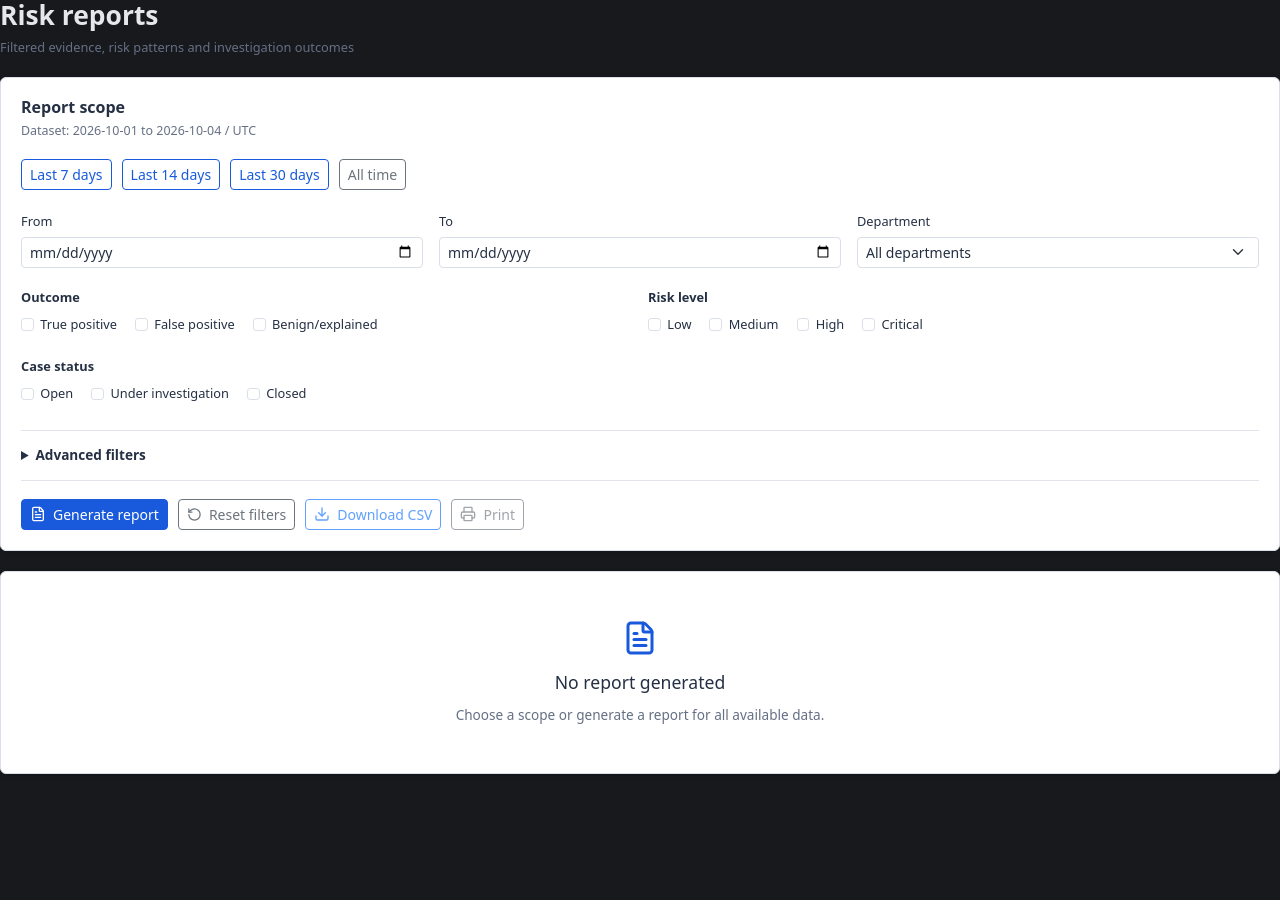
it: renders summary charts, groups, and investigation links
Click the heading "Advanced filters" at (91, 455), box [35, 445, 146, 464]
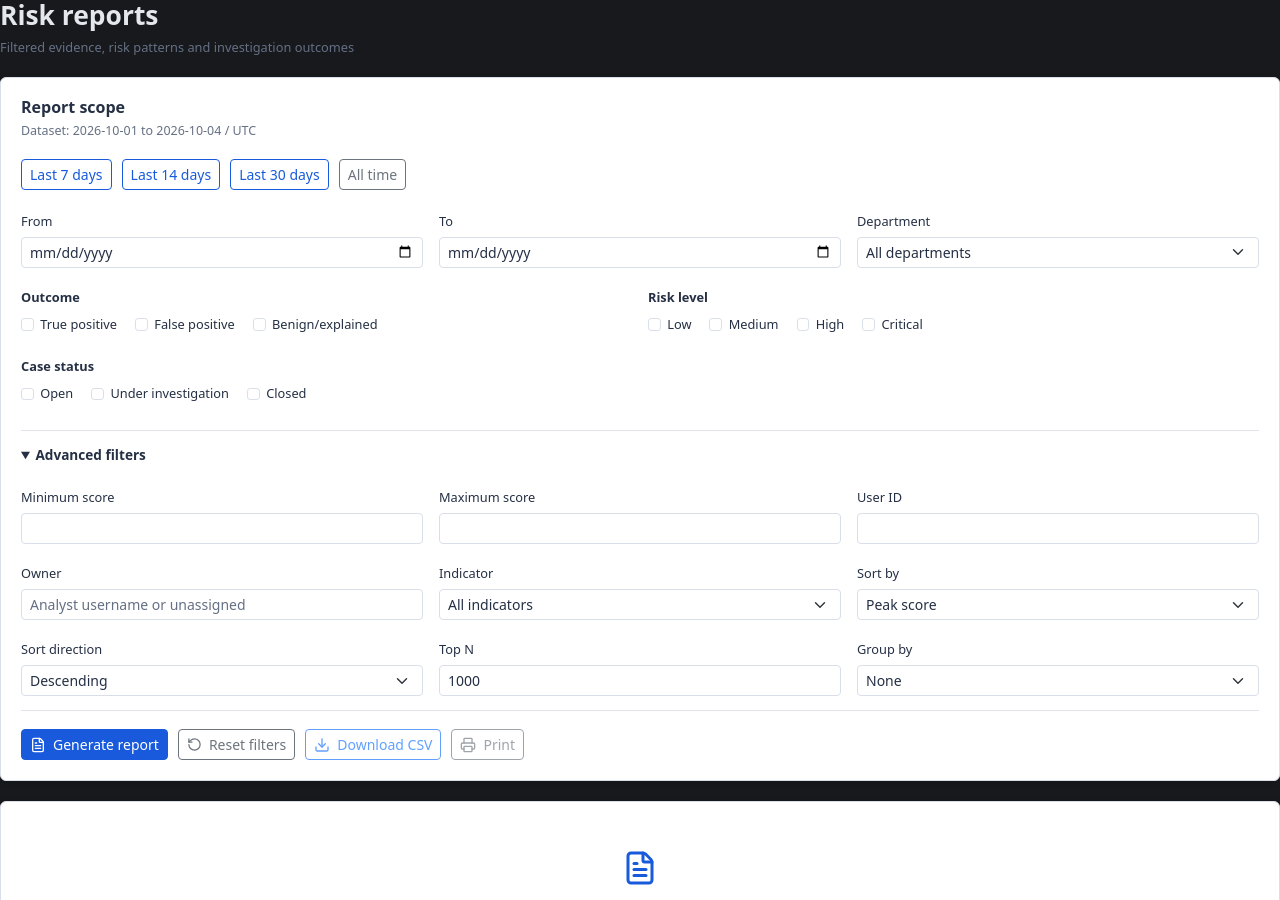
Select "Department" in the dropdown labelled "Group by" at (1058, 681), box [857, 665, 1259, 696]
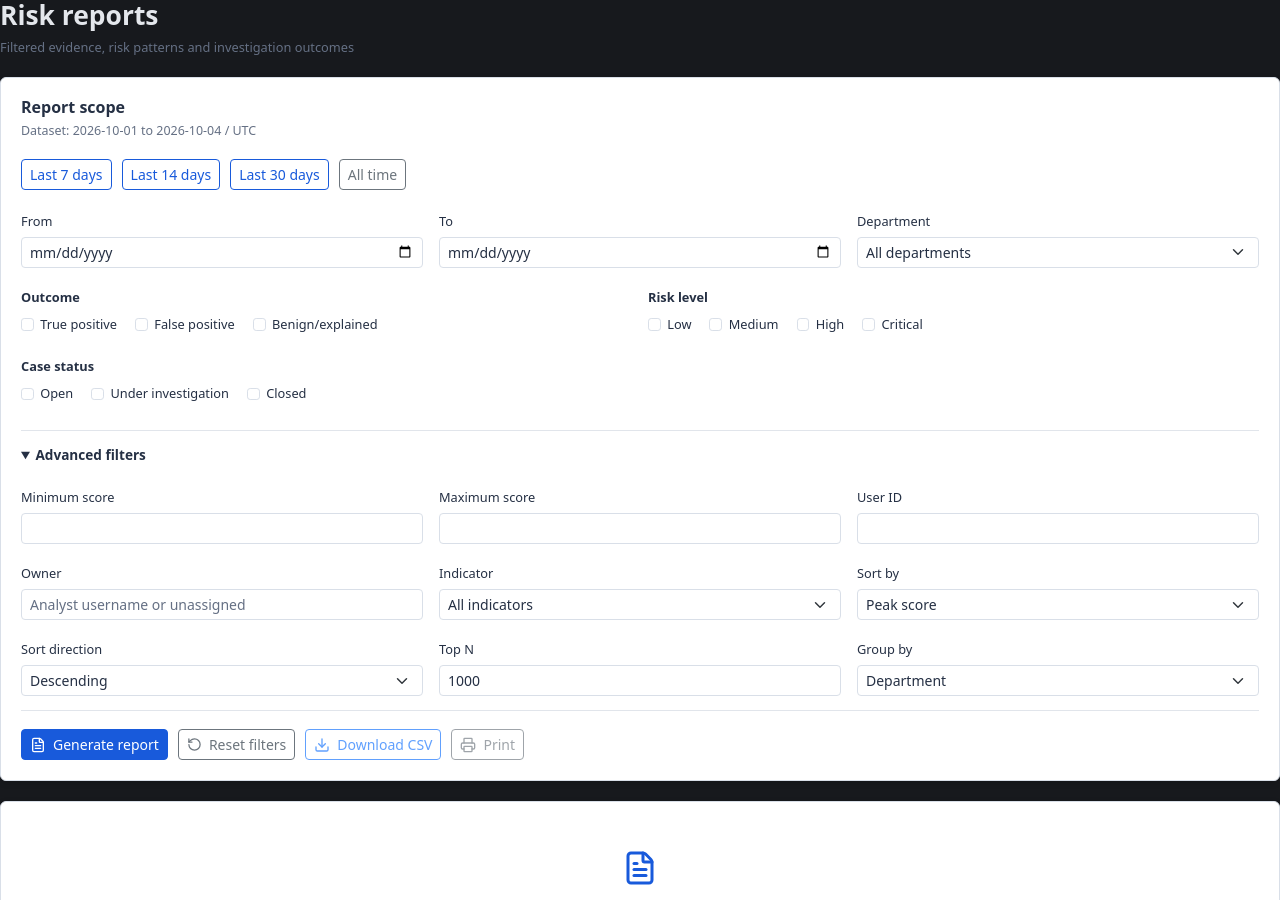
Click the button "Generate report" at (94, 745), box [21, 729, 168, 760]
(page scrolled)
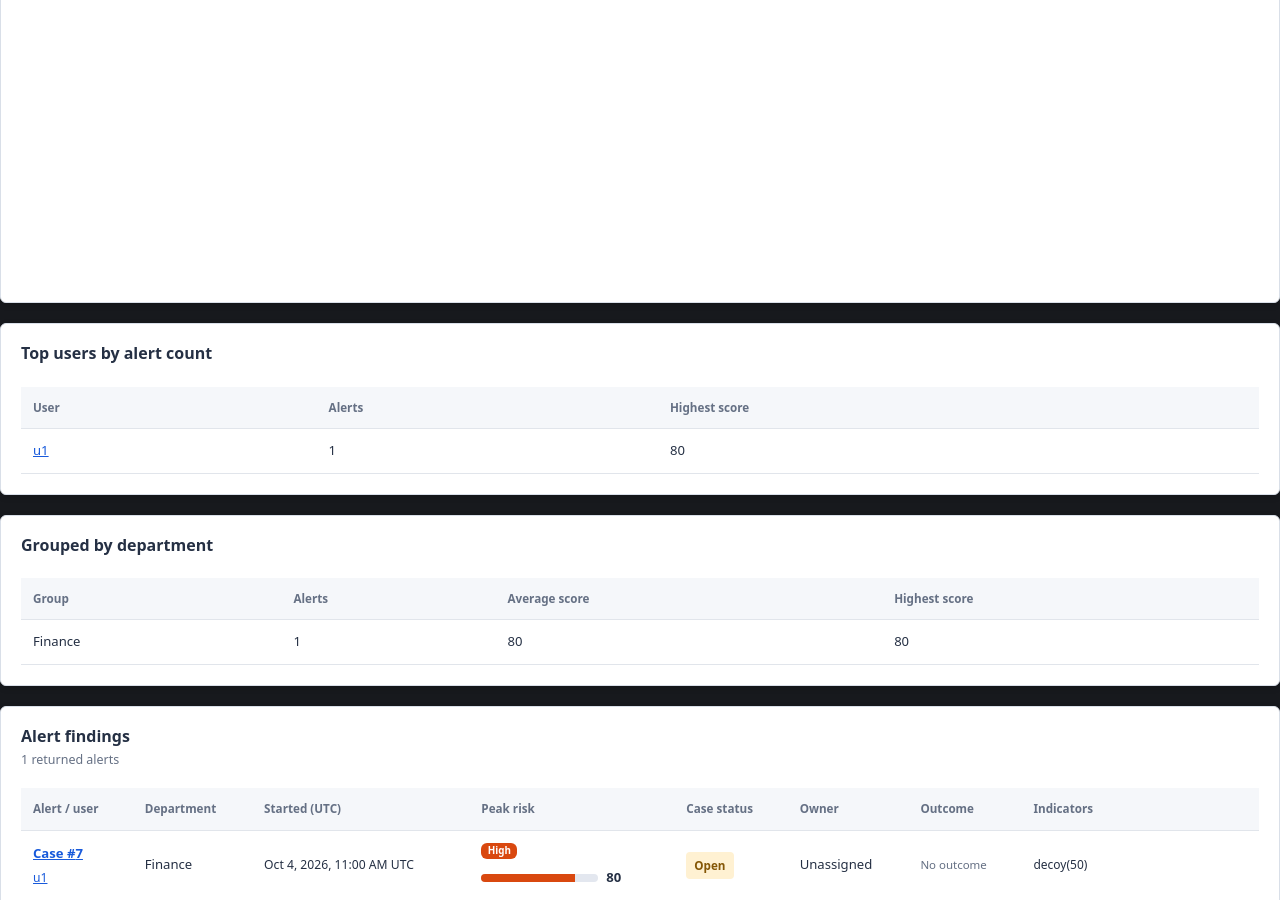
Expected: the heading "Grouped by department" is shown, [21, 536, 213, 555]
